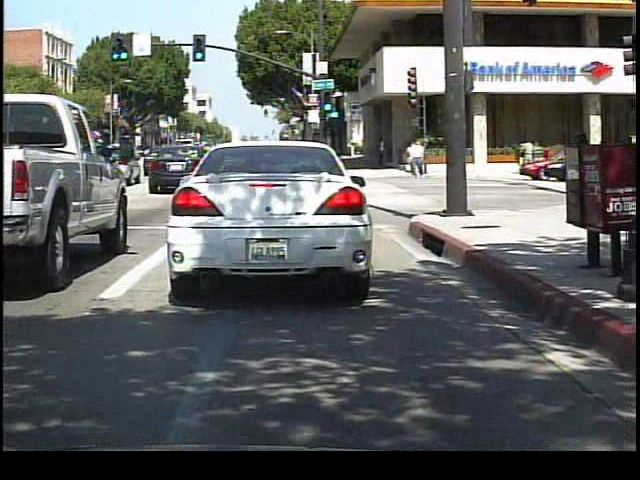person: (516, 135, 538, 177), (407, 136, 427, 179), (443, 136, 461, 176)
